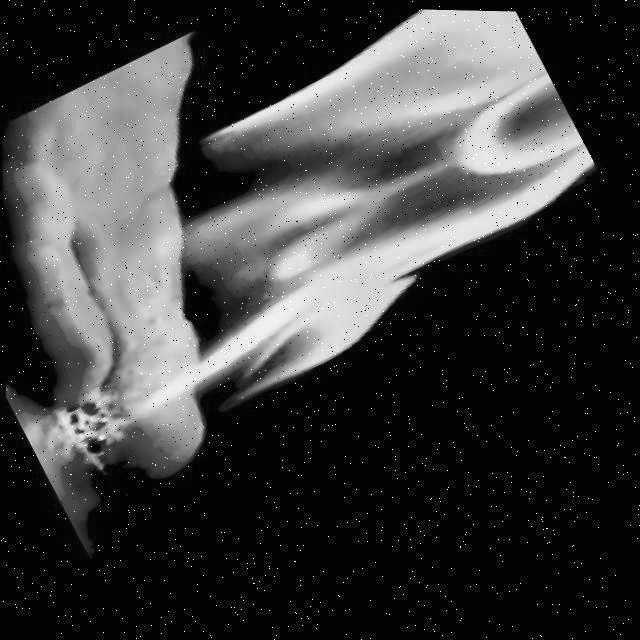Fire: (26, 0, 627, 454)
